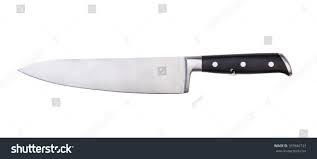Knife: (17, 52, 292, 94)
